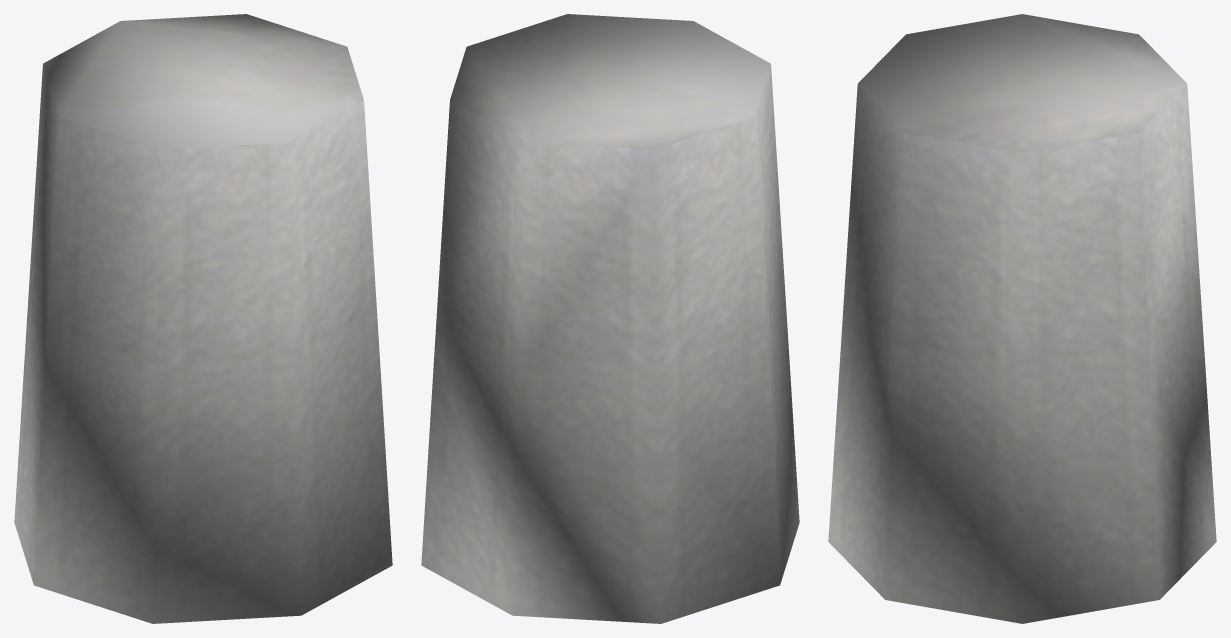
File: general_obj_bigtower08.glb
3 views of the same model, side by side, from view 1: azimuth 30°, elevation 25°; view 2: azimuth 150°, elevation 25°; view 3: azimuth 270°, elevation 25° (orthographic).
Visible parts, largest first — view 1: Sphere01; view 2: Sphere01; view 3: Sphere01.
Boxes of the visible parts, x1,y1,x2,y2 form: Sphere01: (14,14,392,623); Sphere01: (421,14,799,623); Sphere01: (828,14,1216,623).
Size of the model in its own units: 3.7 by 4.82 by 3.7.
1 material, 1 textured.
